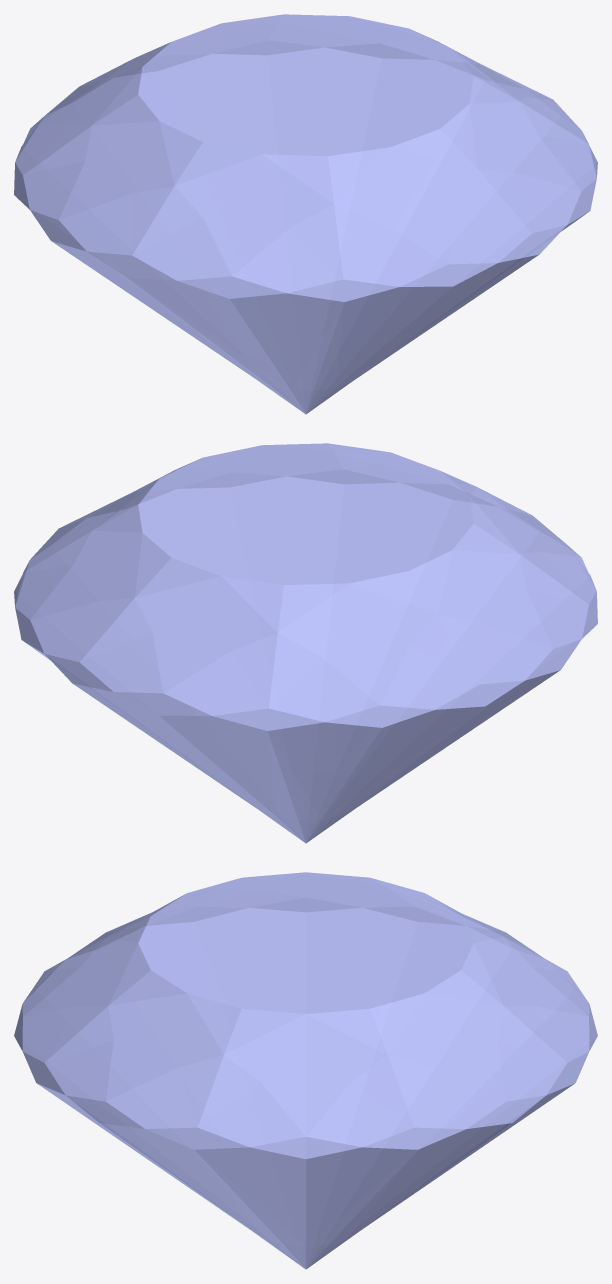
Rendered from diamond.glb.
The picture shows the model from 3 angles, top to bottom: view 1: azimuth 30°, elevation 25°; view 2: azimuth 150°, elevation 25°; view 3: azimuth 270°, elevation 25°; orthographic projection.
Visible parts, largest first — view 1: pCone1; view 2: pCone1; view 3: pCone1.
Part boxes in pixels (<box>): pCone1: <box>14,14,597,414</box>; pCone1: <box>14,443,597,843</box>; pCone1: <box>14,872,597,1269</box>.
Size of the model in its own units: 2 by 1.23 by 2.
Materials: 1 (1 with a texture image).
